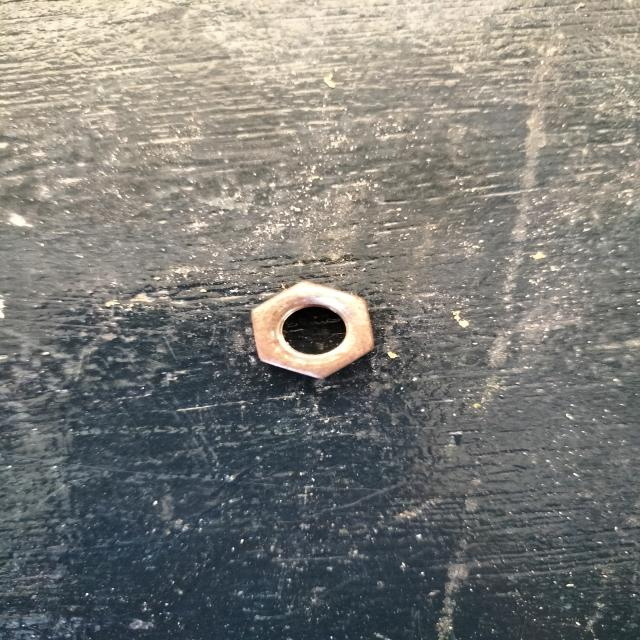nuts: (251, 281, 376, 379)
